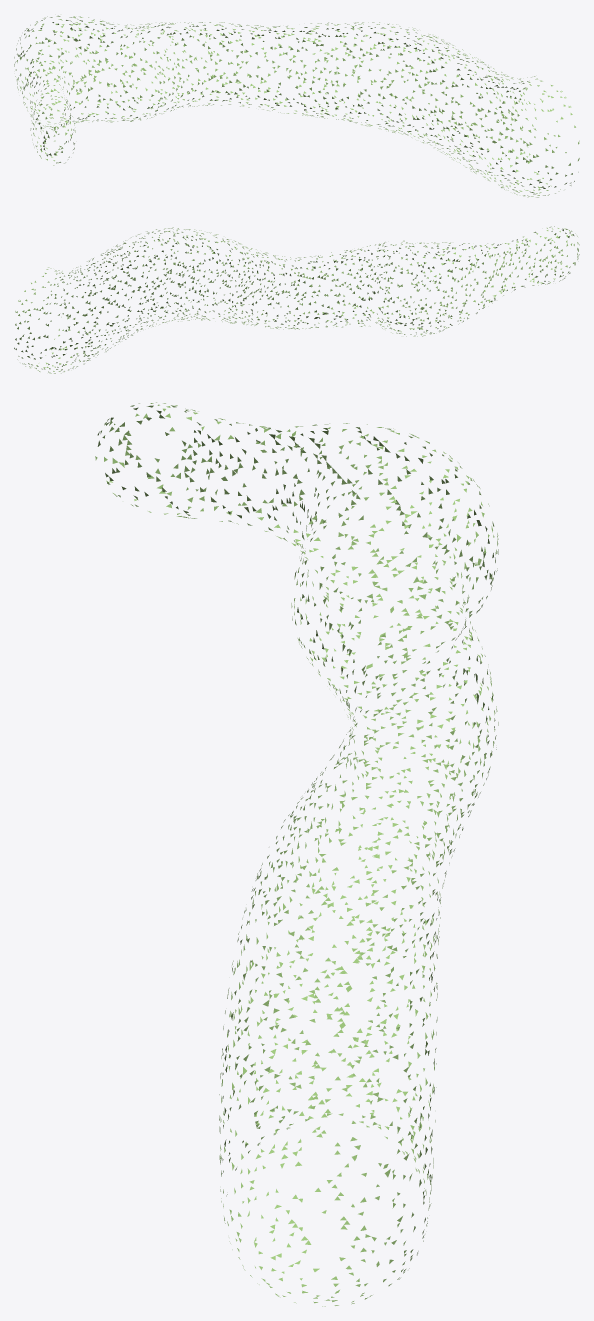
File: morph_013.glb
3 views of the same model, one above another, from view 1: azimuth 30°, elevation 25°; view 2: azimuth 150°, elevation 25°; view 3: azimuth 270°, elevation 25° (orthographic). The views are drawn at different scales.
Size of the model in its own units: 131 by 59.21 by 46.55.
